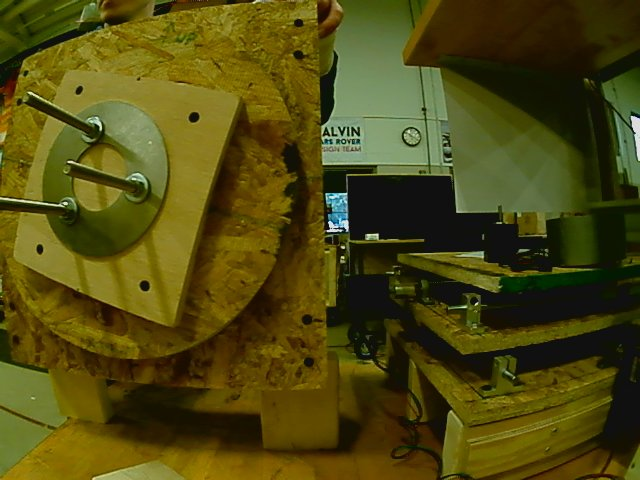bolt: (124, 171, 150, 204), (57, 193, 79, 227), (81, 115, 105, 144)
